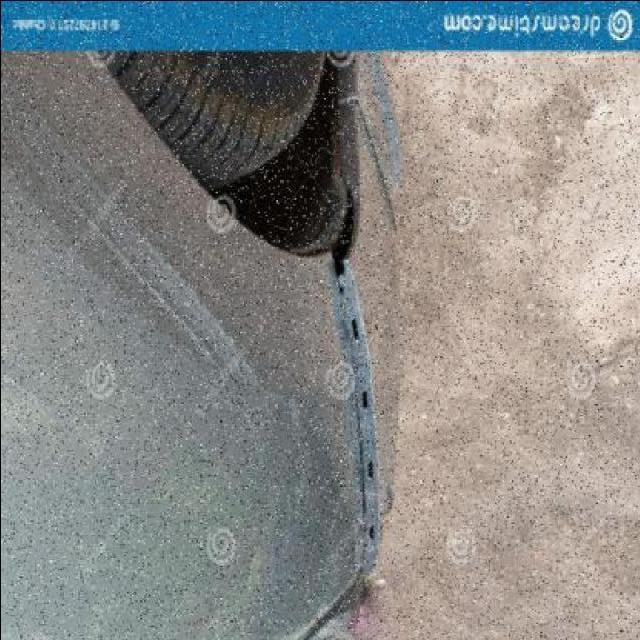front-bumper-dent: (296, 50, 415, 640)
